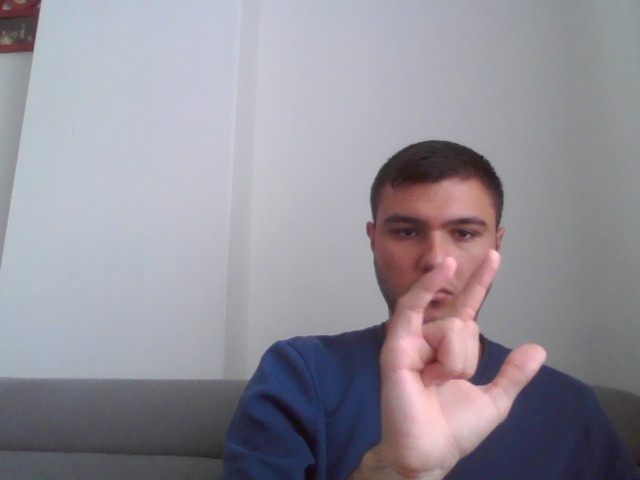ı love you: (378, 249, 550, 477)
